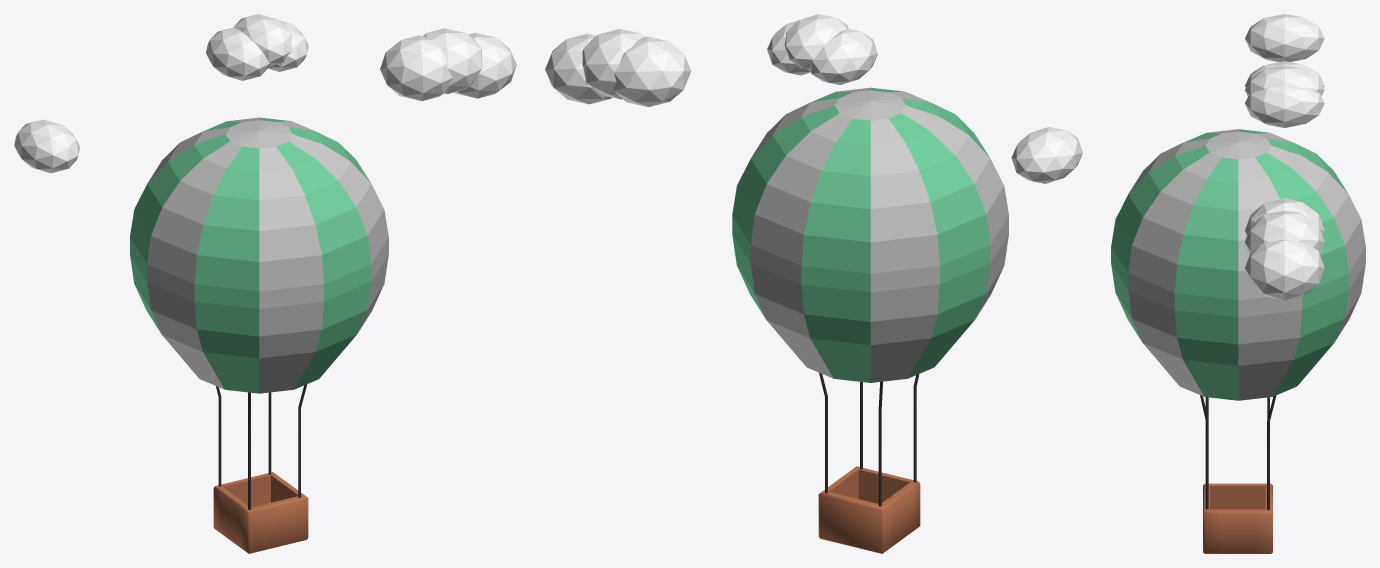
Rendered from HotAirBallon_1389.gltf.
3 views of the same model, side by side, from view 1: azimuth 30°, elevation 25°; view 2: azimuth 150°, elevation 25°; view 3: azimuth 270°, elevation 25° (orthographic). The views are drawn at different scales.
Parts seen in each view (by area): view 1: node-0; view 2: node-0; view 3: node-0.
Boxes of the visible parts, bbox=[...] form: node-0: bbox=[14, 14, 516, 553]; node-0: bbox=[545, 14, 1082, 553]; node-0: bbox=[1111, 14, 1365, 553].
Bounding box in the file's own units: 103 × 98.72 × 47.14.
